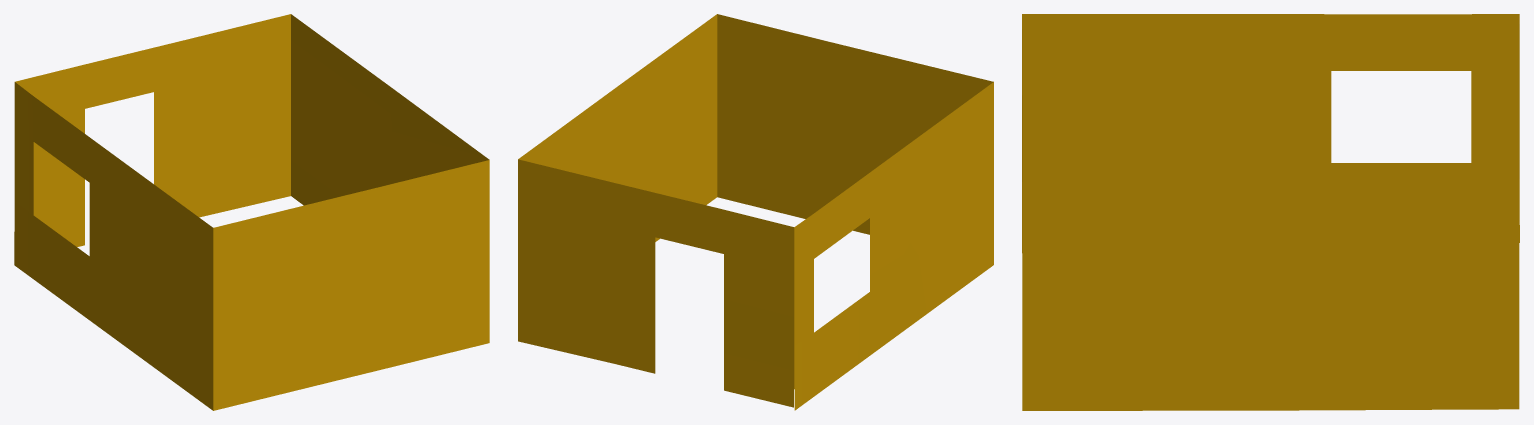
The picture shows the model from 3 angles, left to right: view 1: azimuth 30°, elevation 25°; view 2: azimuth 150°, elevation 25°; view 3: azimuth 270°, elevation 25°; orthographic projection. The views are drawn at different scales.
Parts seen in each view (by area): view 1: BH07_WP_01; view 2: BH07_WP_01; view 3: BH07_WP_01.
Boxes of the visible parts, x1,y1,x2,y2 form: BH07_WP_01: (14,14,489,410); BH07_WP_01: (518,14,993,410); BH07_WP_01: (1022,14,1519,410).
Size of the model in its own units: 474 by 301 by 591.
